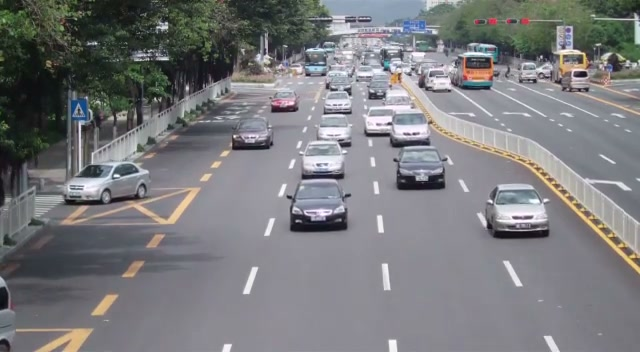bus: (449, 52, 495, 89)
car: (63, 161, 151, 204), (484, 183, 551, 239), (287, 178, 350, 232), (394, 146, 453, 190), (300, 140, 346, 179), (389, 110, 431, 148), (231, 117, 274, 150), (0, 275, 17, 352), (317, 114, 353, 148), (363, 106, 395, 136), (323, 90, 353, 114), (271, 89, 300, 112), (519, 62, 538, 84)
truck: (554, 50, 589, 84), (561, 69, 590, 92)
